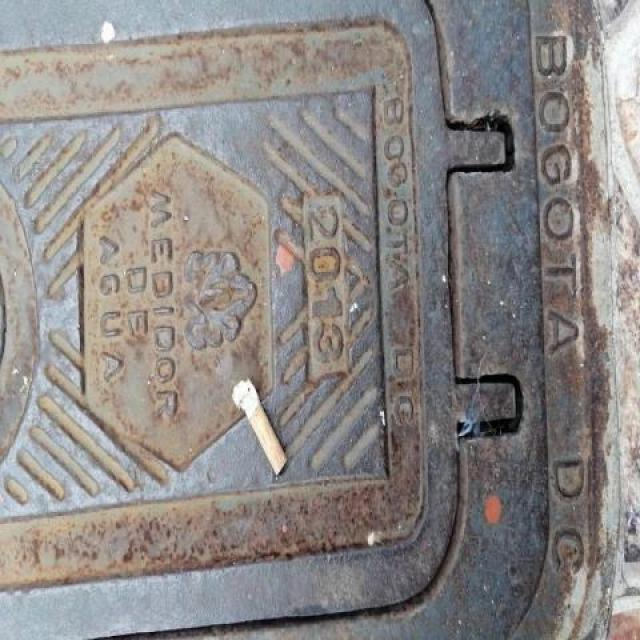non-organic waste: (229, 374, 291, 481)
